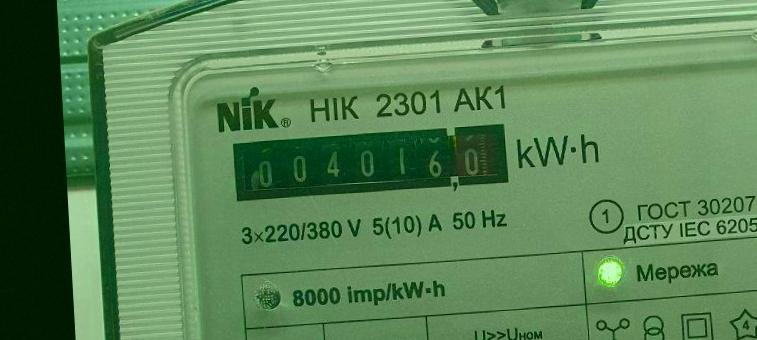0: (355, 145, 378, 181), (254, 156, 277, 190), (289, 151, 310, 186), (460, 144, 481, 177)
1: (393, 142, 410, 177)
4: (322, 146, 342, 181)
6: (424, 145, 444, 178)
screen: (224, 116, 517, 209)
